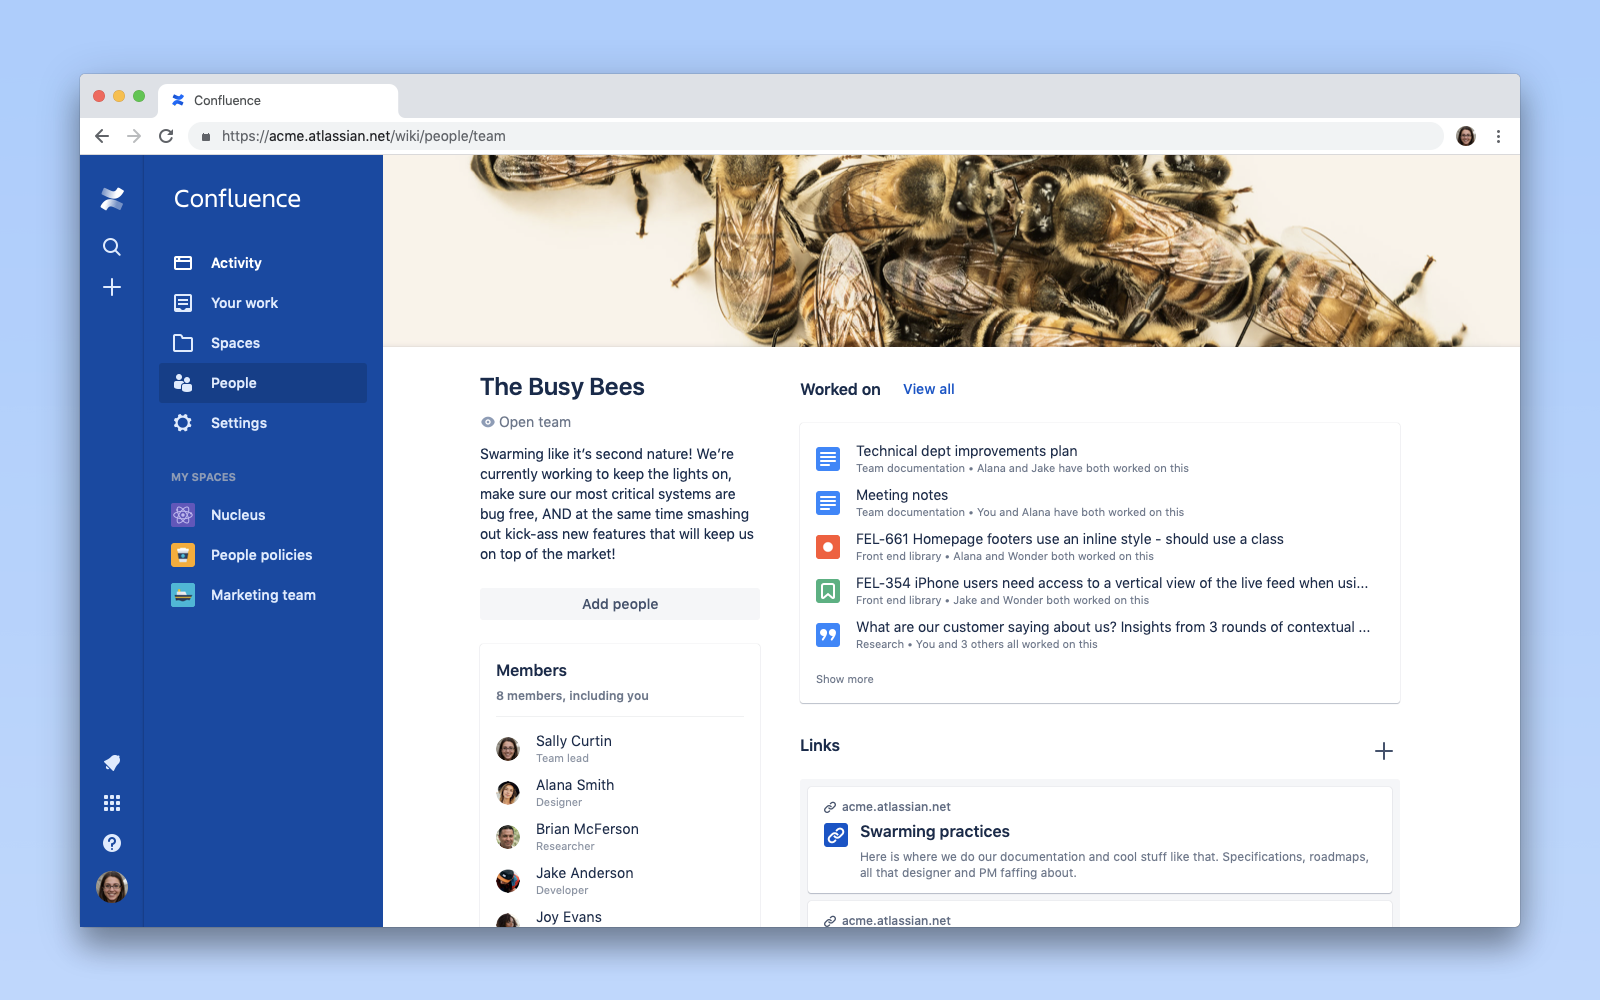search_box: (98, 230, 132, 267)
